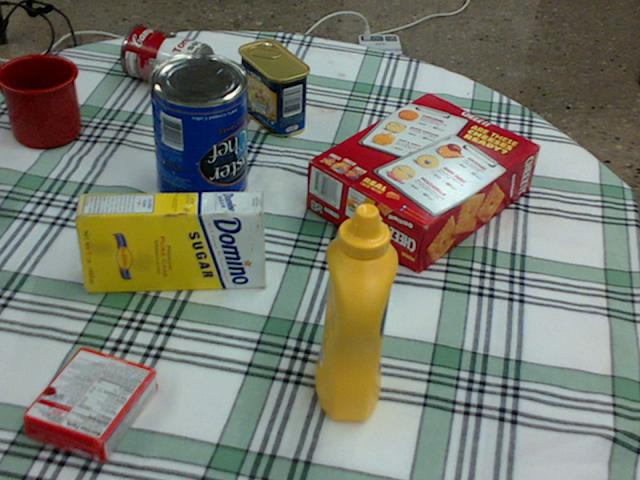cracker_box: (308, 93, 539, 273)
gelatin_box: (23, 346, 155, 461)
master_chef_can: (146, 53, 246, 211)
mug: (0, 52, 81, 146)
mustard_bottle: (316, 203, 398, 419)
potted_meat_can: (237, 40, 309, 135)
sugar_box: (73, 192, 264, 291)
tomato_soup_can: (120, 25, 213, 92)
